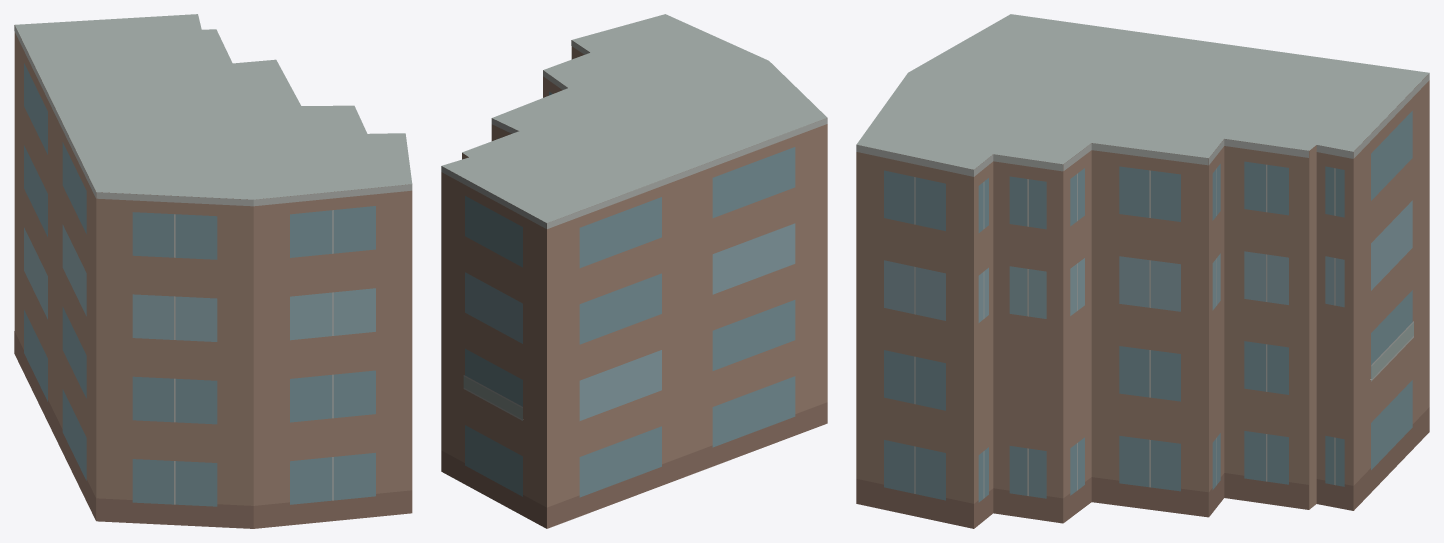
The model's file is survey-upis-32561928.glb.
3 views of the same model, side by side, from view 1: azimuth 30°, elevation 25°; view 2: azimuth 150°, elevation 25°; view 3: azimuth 270°, elevation 25° (orthographic). The views are drawn at different scales.
Parts seen in each view (by area): view 1: survey-upis-32561928.tmp; view 2: survey-upis-32561928.tmp; view 3: survey-upis-32561928.tmp.
Part boxes in pixels (x1,y1,x2,y2): survey-upis-32561928.tmp: (14,14,412,528); survey-upis-32561928.tmp: (441,14,827,528); survey-upis-32561928.tmp: (856,14,1429,528).
Bounding box in the file's own units: 11.36 × 12.2 × 17.66.
